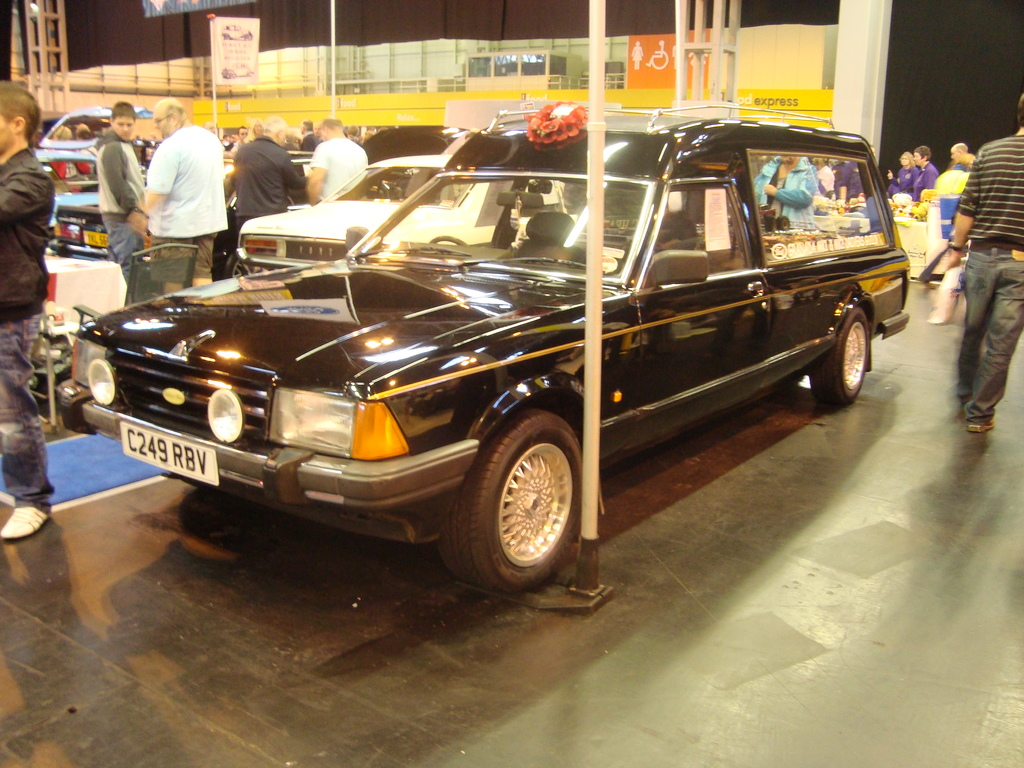Car: (30, 99, 914, 598)
